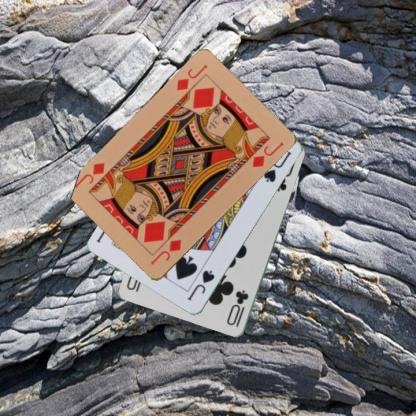10c: (224, 287, 250, 329)
Jd: (173, 62, 208, 93), (147, 237, 183, 266)
Js: (184, 268, 216, 302)
